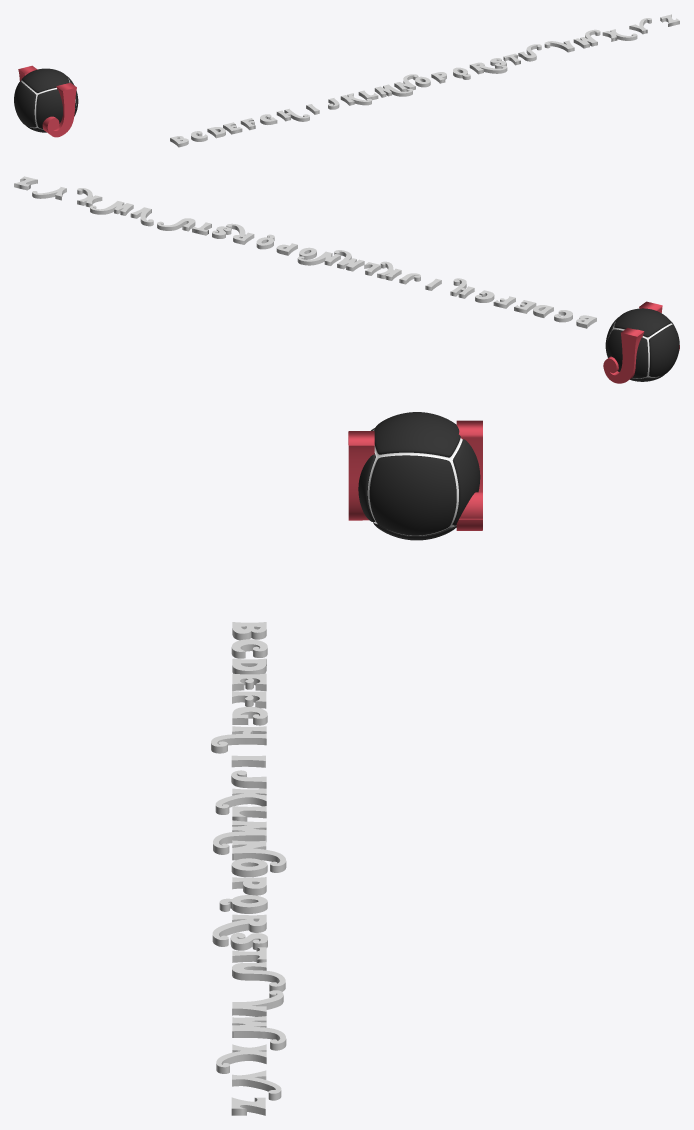
The picture shows the model from 3 angles, top to bottom: view 1: azimuth 30°, elevation 25°; view 2: azimuth 150°, elevation 25°; view 3: azimuth 270°, elevation 25°; orthographic projection. The views are drawn at different scales.
Visible parts, largest first — view 1: Cube.001, A, M, W, R, H, X, N, U, K, V; view 2: Cube.001, A.001, W, N, M, U, H; view 3: Cube.001, A, A.001, W, M, N.
Part boxes in pixels (x1,y1,x2,y2): Cube.001: (14, 68, 78, 132); A: (42, 82, 76, 137); M: (374, 84, 412, 97); W: (573, 29, 600, 48); R: (469, 62, 507, 74); H: (276, 108, 309, 121); X: (602, 29, 637, 41); N: (394, 74, 418, 91); U: (518, 44, 541, 61); K: (340, 93, 371, 105); V: (544, 40, 574, 52); Cube.001: (605, 308, 679, 381); A.001: (603, 327, 644, 383); W: (90, 201, 133, 215); N: (297, 251, 340, 265); M: (334, 250, 364, 271); U: (157, 218, 195, 231); H: (450, 278, 474, 298); Cube.001: (358, 412, 480, 540); A: (348, 431, 374, 520); A.001: (456, 420, 482, 530); W: (232, 1016, 286, 1050); M: (213, 820, 266, 854); N: (232, 840, 286, 872).
Size of the model in its own units: 1885 by 185 by 361.
